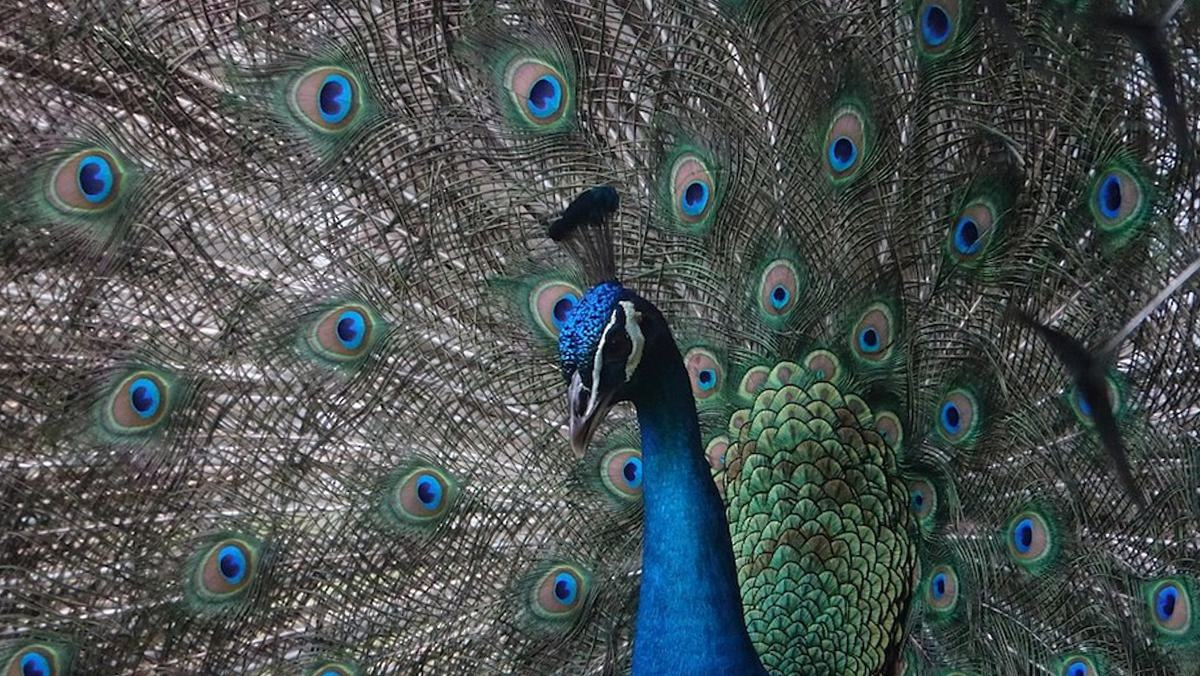peacock: (81, 62, 1075, 676)
